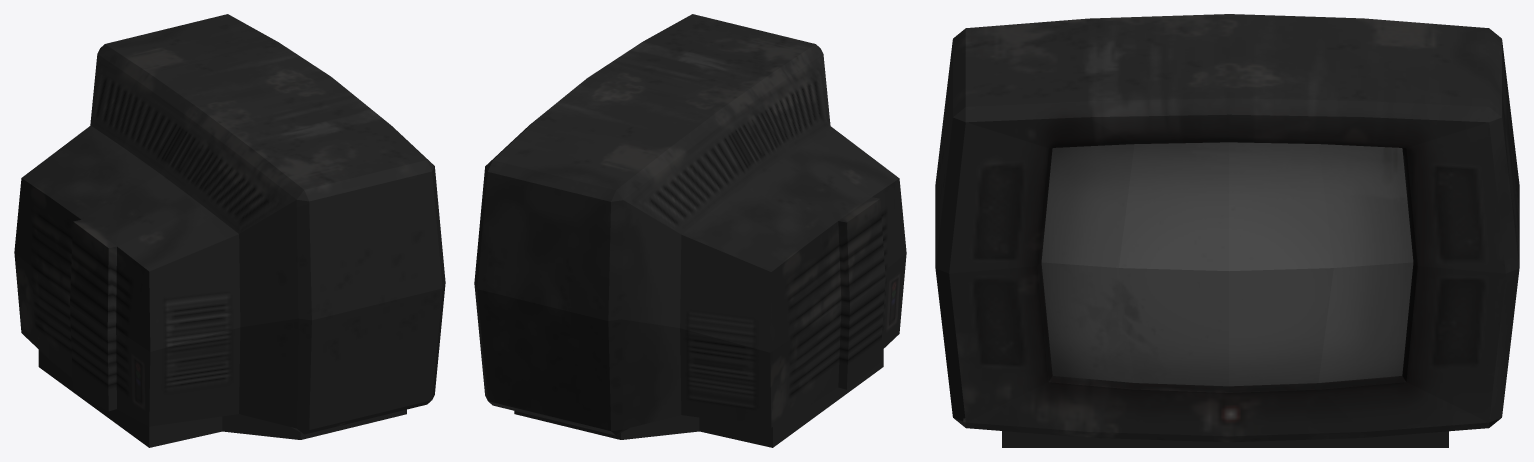
File: Object_TV_fixed.fbx
3 views of the same model, side by side, from view 1: azimuth 30°, elevation 25°; view 2: azimuth 150°, elevation 25°; view 3: azimuth 270°, elevation 25° (orthographic). The views are drawn at different scales.
Parts seen in each view (by area): view 1: TV; view 2: TV; view 3: TV.
Part boxes in pixels (x1=…): TV: x1=14, y1=14, x2=445, y2=447; TV: x1=474, y1=14, x2=906, y2=447; TV: x1=935, y1=14, x2=1519, y2=447.
Size of the model in its own units: 0.7687 by 0.7193 by 1.07.
